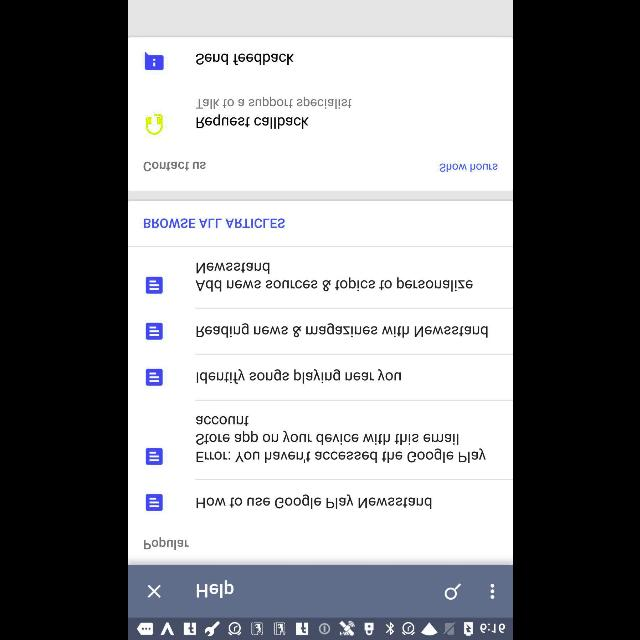icon: (144, 51, 164, 70), (145, 276, 163, 294), (444, 582, 461, 600), (146, 322, 162, 340), (146, 368, 162, 386), (146, 494, 162, 511), (146, 448, 162, 464), (147, 584, 161, 598), (490, 583, 494, 599)
image: (145, 114, 163, 134)
text: (195, 416, 485, 462), (194, 262, 472, 292), (195, 324, 487, 338), (196, 494, 430, 508), (196, 368, 400, 384), (195, 96, 351, 110), (196, 114, 308, 128), (195, 52, 293, 66), (195, 580, 232, 598), (142, 536, 188, 550), (143, 162, 205, 172), (439, 164, 497, 172)
textbutton: (128, 199, 512, 247)
toolbar: (128, 566, 512, 616)
uppertaskbar: (128, 617, 512, 639)
